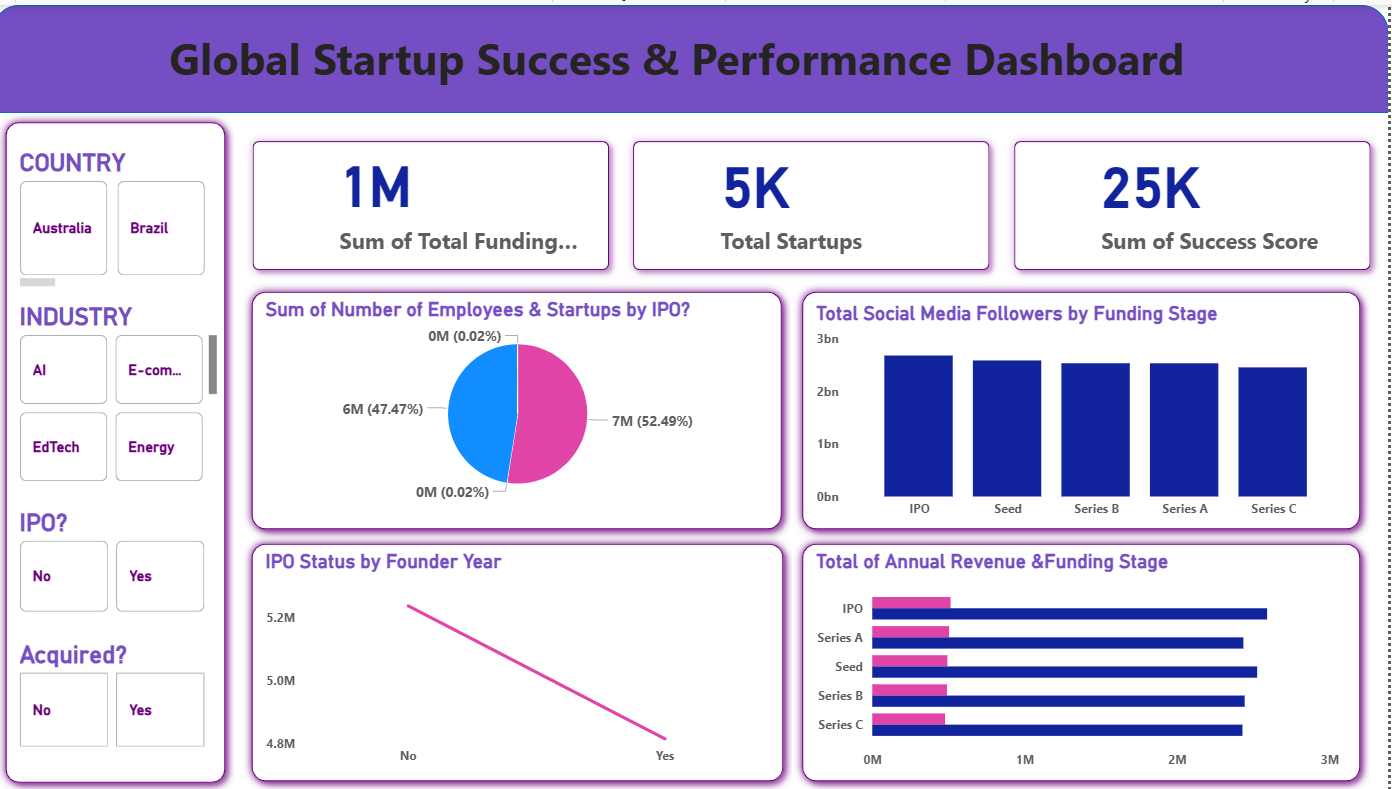

The page's visual inventory and layout, read from the dashboard file:
{"tool":"powerbi","page":{"name":"Page 1","canvas":[1375,775],"ordinal":0},"visuals":[{"type":"shape","box":[247.2,522.1,541.7,252.1],"z":0},{"type":"shape","box":[0,0,1375.2,106.4],"z":1000},{"type":"textbox","box":[68.6,17.2,1213,76.4],"z":2000},{"type":"cardVisual","fields":{"Data":["Sum(public globals.Total Funding ($M))","public globals.Total Startups","Sum(public globals.Success Score)"]},"box":[239.3,116.7,1135.9,161],"z":3000},{"type":"shape","box":[4.9,105.7,234.2,668.5],"z":4000},{"type":"advancedSlicerVisual","title":"COUNTRY","fields":{"Values":["public globals.country"]},"box":[22.7,140.8,193.8,143.8],"z":5000},{"type":"advancedSlicerVisual","title":"INDUSTRY","fields":{"Values":["public globals.Industry"]},"box":[22.8,292.8,205,182.2],"z":6000},{"type":"advancedSlicerVisual","fields":{"Values":["public globals.IPO?"]},"box":[22.8,494.5,193.6,107.4],"z":7000},{"type":"advancedSlicerVisual","fields":{"Values":["public globals.Acquired?"]},"box":[22.8,624.6,193.6,110.6],"z":8000},{"type":"shape","box":[247.2,273.3,540,252.1],"z":9000},{"type":"lineChart","title":"IPO Status by Founder Year","fields":{"Category":["public globals.IPO?"],"Y":["Sum(public globals.Founded Year)"]},"box":[265.1,536.8,504.2,221.2],"z":10000},{"type":"shape","box":[788.9,273.3,567.7,252.1],"z":11000},{"type":"columnChart","title":"Total Social Media Followers by Funding Stage","fields":{"Y":["Sum(public globals.Social Media Followers)"],"Category":["public globals.Funding Stage"]},"box":[806.8,292.8,530.3,221.2],"z":12000},{"type":"shape","box":[788.9,522.1,567.7,252.1],"z":13000},{"type":"clusteredBarChart","title":"Total of Annual Revenue &Funding Stage","fields":{"Category":["public globals.Funding Stage"],"Y":["Sum(public globals.Annual Revenue ($M))","Sum(public globals.Number of Employees)"]},"box":[806.8,536.8,530.3,224.5],"z":14000},{"type":"pieChart","title":"Sum of Number of Employees & Startups by IPO?","fields":{"Y":["Sum(public globals.Number of Employees)","public globals.Total Startups"],"Category":["public globals.IPO?"]},"box":[265.1,287.9,505.9,206.6],"z":15000}]}

Visuals, with their boxes in screenshot pixels (x1, y1, x2, y2), scaled from the page's 1375x775 canvas onto the 1392x789 screenshot:
shape: {"left": 250, "top": 532, "right": 799, "bottom": 788}
shape: {"left": 0, "top": 0, "right": 1391, "bottom": 108}
textbox: {"left": 69, "top": 18, "right": 1297, "bottom": 95}
cardVisual - Sum(public globals.Total Funding ($M)) x public globals.Total Startups: {"left": 242, "top": 119, "right": 1391, "bottom": 283}
shape: {"left": 5, "top": 108, "right": 242, "bottom": 788}
"COUNTRY" advancedSlicerVisual: {"left": 23, "top": 143, "right": 219, "bottom": 290}
"INDUSTRY" advancedSlicerVisual: {"left": 23, "top": 298, "right": 231, "bottom": 484}
advancedSlicerVisual - public globals.IPO?: {"left": 23, "top": 503, "right": 219, "bottom": 613}
advancedSlicerVisual - public globals.Acquired?: {"left": 23, "top": 636, "right": 219, "bottom": 748}
shape: {"left": 250, "top": 278, "right": 797, "bottom": 535}
"IPO Status by Founder Year" lineChart: {"left": 268, "top": 546, "right": 779, "bottom": 772}
shape: {"left": 799, "top": 278, "right": 1373, "bottom": 535}
"Total Social Media Followers by Funding Stage" columnChart: {"left": 817, "top": 298, "right": 1354, "bottom": 523}
shape: {"left": 799, "top": 532, "right": 1373, "bottom": 788}
"Total of Annual Revenue &Funding Stage" clusteredBarChart: {"left": 817, "top": 546, "right": 1354, "bottom": 775}
"Sum of Number of Employees & Startups by IPO?" pieChart: {"left": 268, "top": 293, "right": 781, "bottom": 503}
